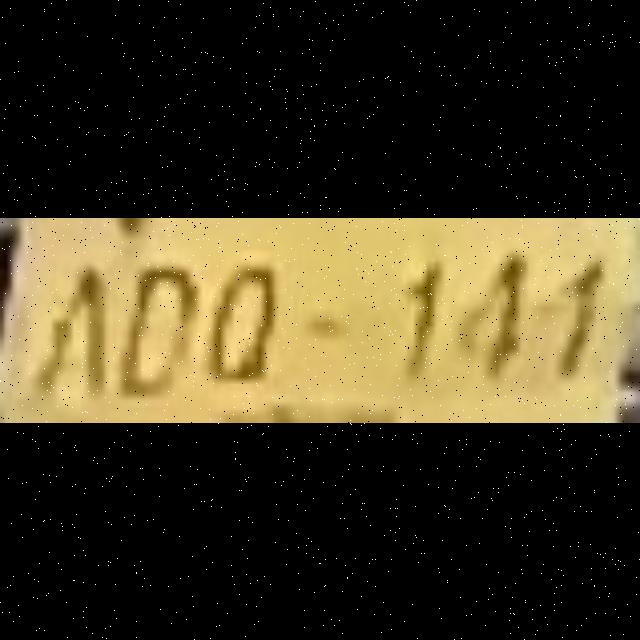1: (368, 253, 454, 394), (540, 253, 624, 394)
4: (452, 253, 538, 394)
A: (23, 253, 108, 394)
D: (110, 253, 196, 394)
Q: (194, 253, 280, 394)
